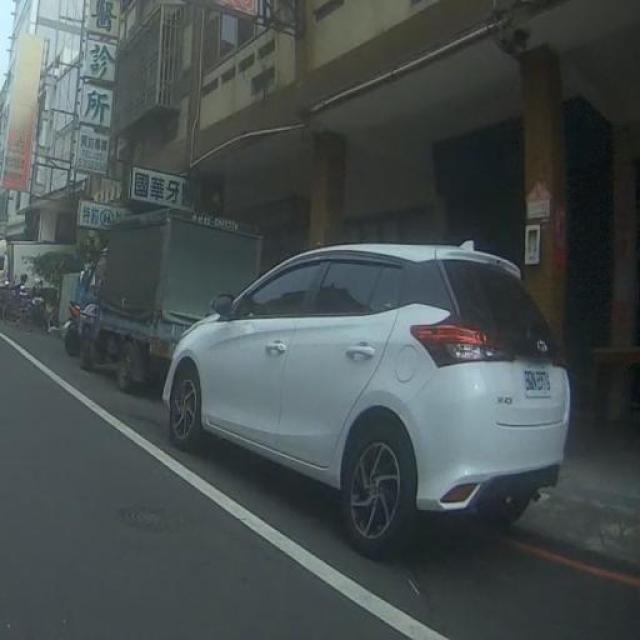Legalparking: (9, 207, 61, 342)
illegalparking: (84, 210, 569, 555)
